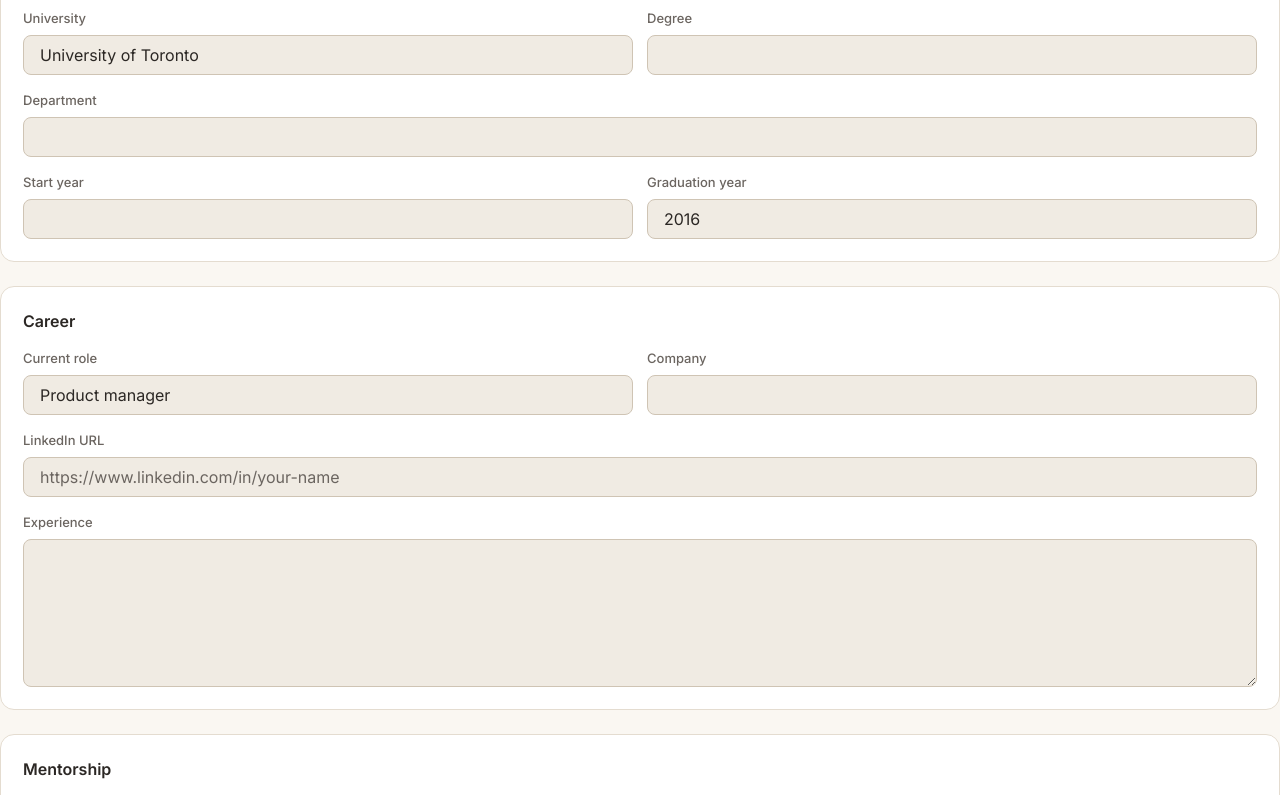
ProfileForm saving › keeps the saved profile, the typed password and its error when only the password is rejected
(page scrolled)
Replace the text in the field labelled "Current role" with "Lead". click: (328, 395)
box: [23,375,633,415]
(page scrolled)
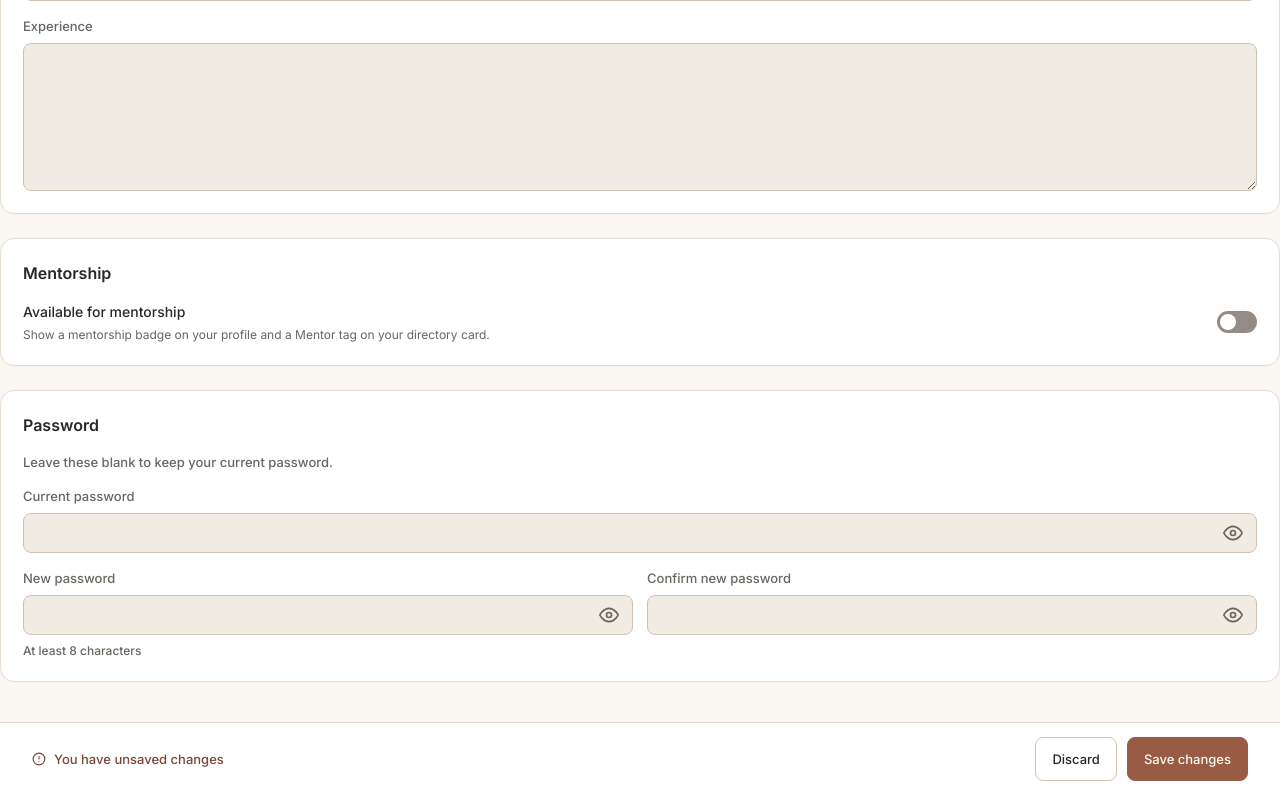
Type "abcdefgh1" into the password field labelled "Current password". click: (640, 533)
box: [23,513,1257,553]
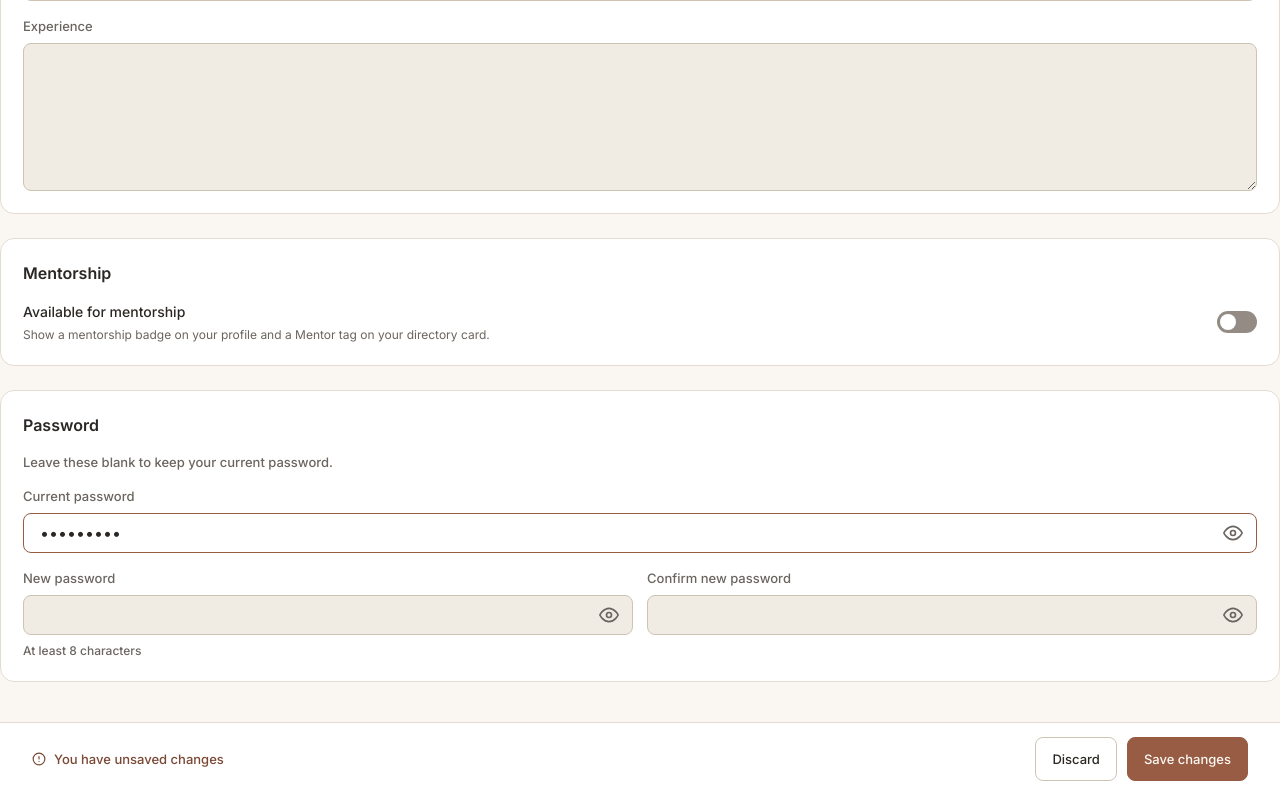
Type "abcdefgh2" into the password field labelled "New password". click: (328, 615)
box: [23,595,633,635]
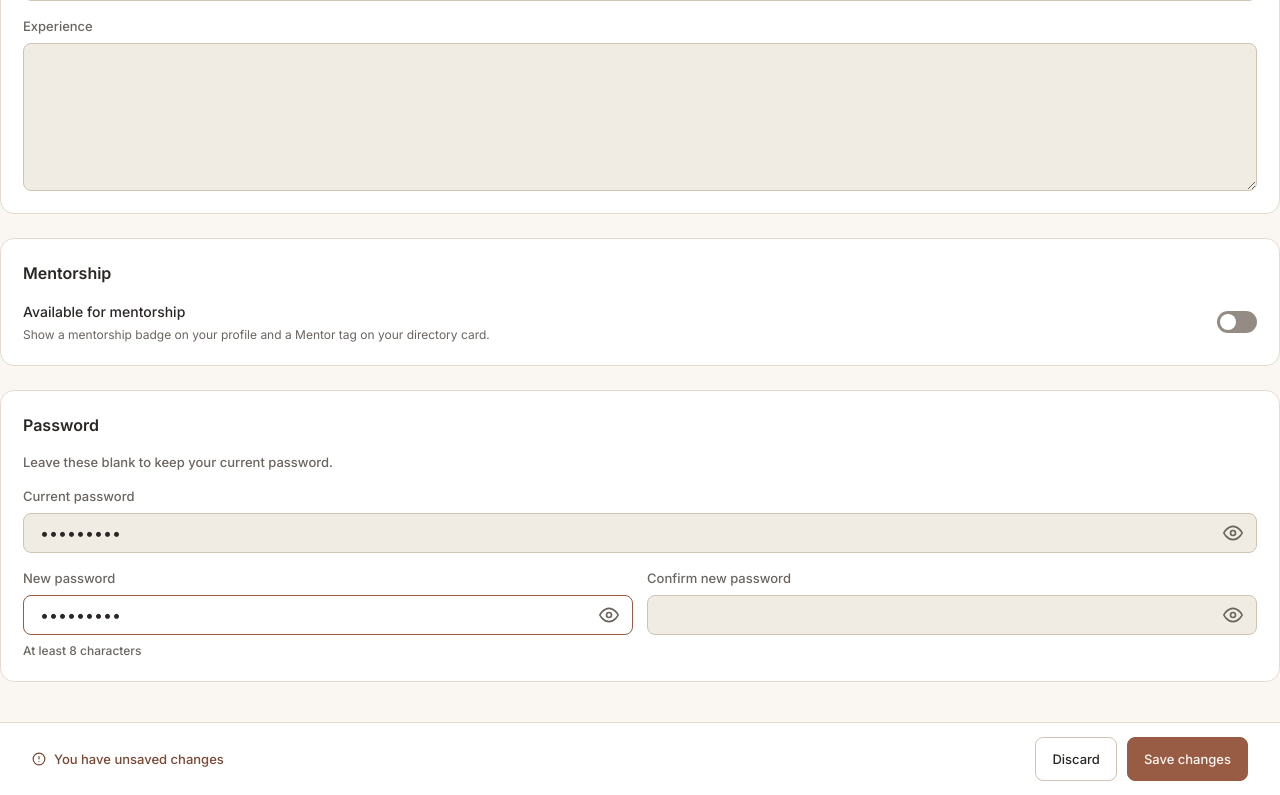
Type "abcdefgh2" into the password field labelled "Confirm new password". click: (952, 615)
box: [647,595,1257,635]
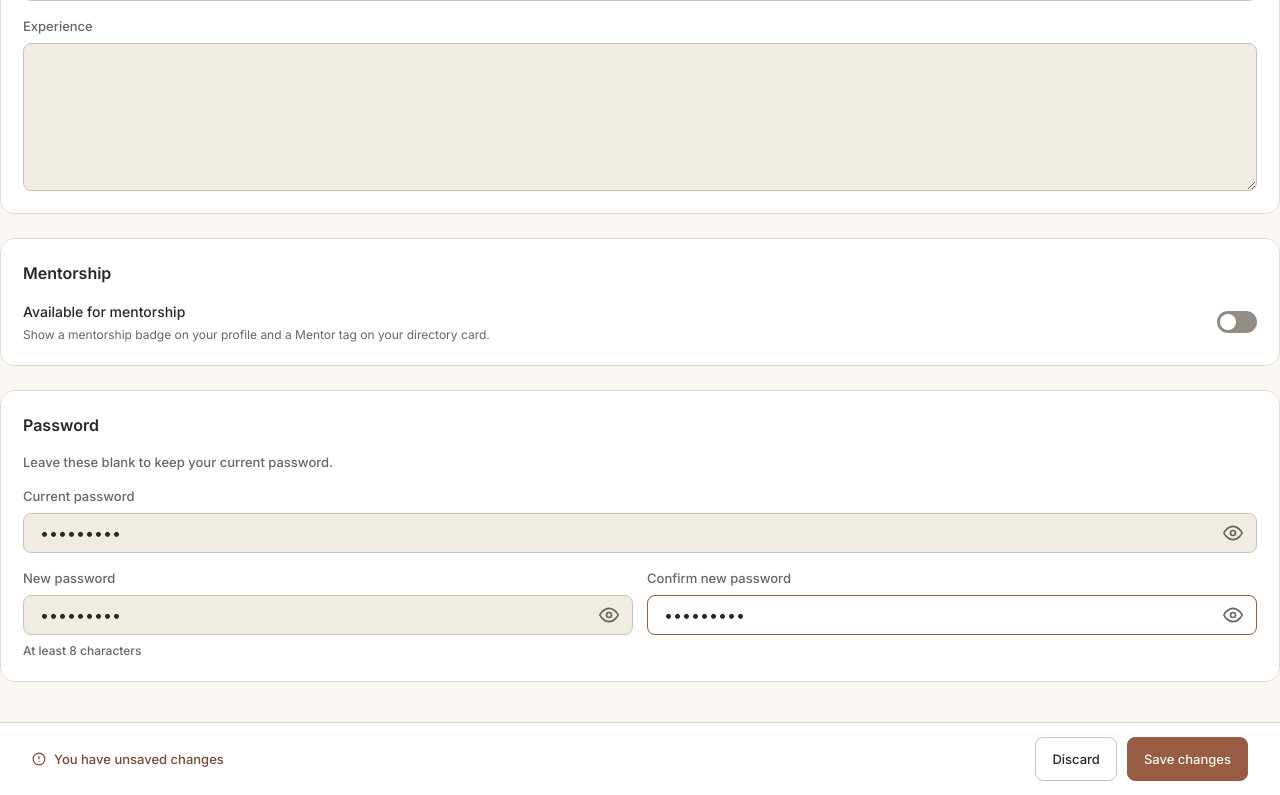
Click the button "Save changes". click: (1187, 759)
box: [1127,737,1248,781]
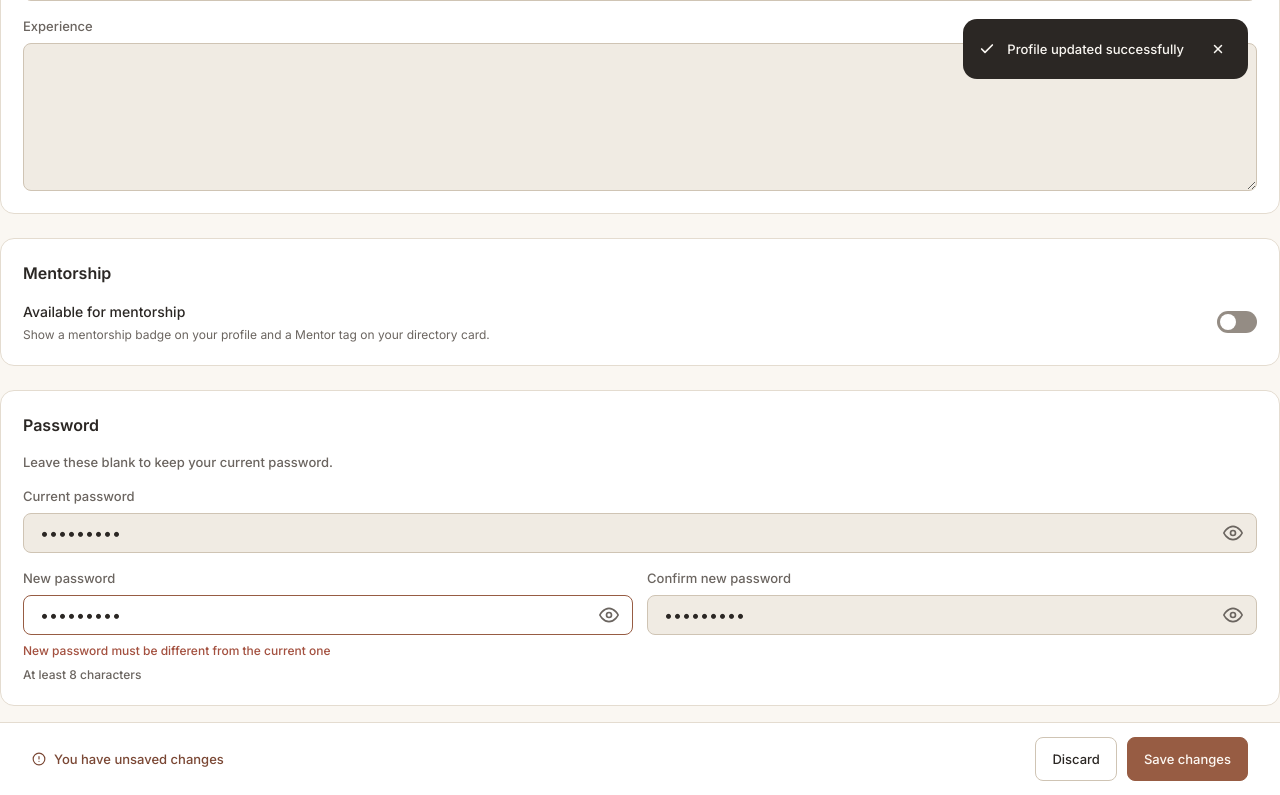
Expected: the element "unsaved changes" is shown, [0,722,1279,794]
Expected: the text "New password must be different from the current one" is shown, [23,643,330,658]
Expected: the text "Profile updated successfully" is shown, [1007,40,1184,58]
